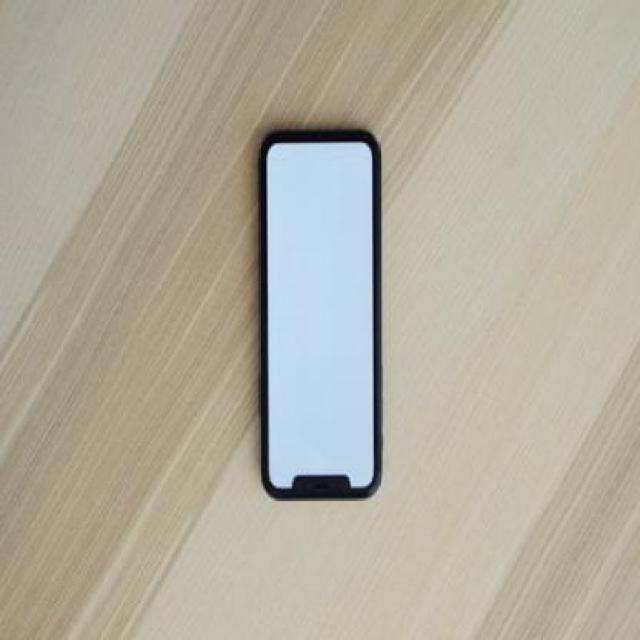phone: (257, 126, 383, 506)
